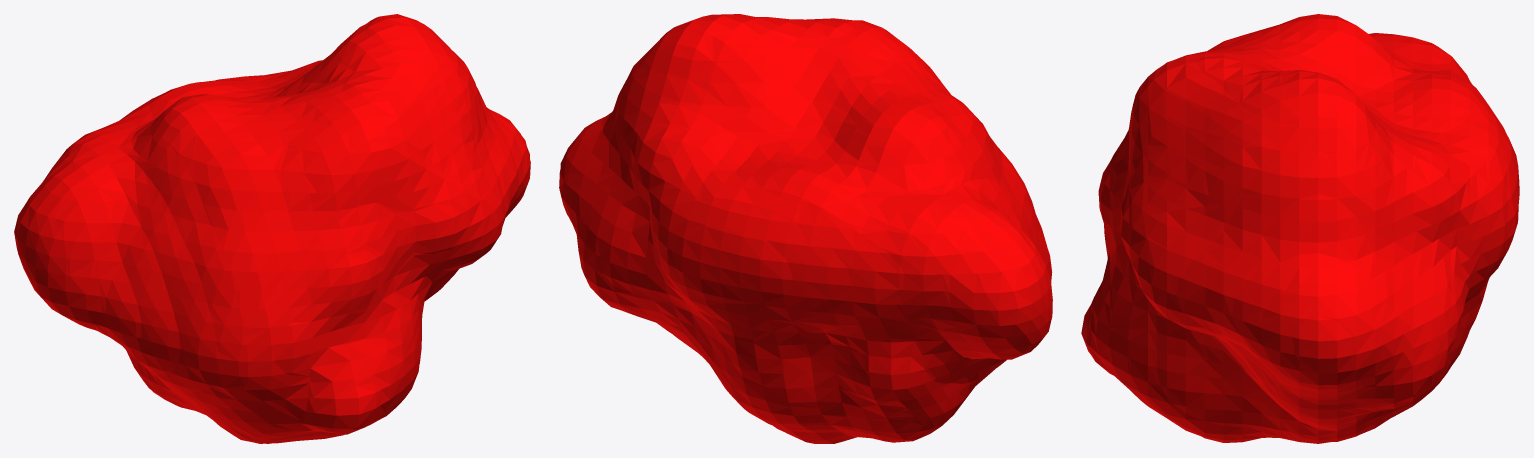
File: Protein_kinase__cAMP_dependent_coarse.dae
3 views of the same model, side by side, from view 1: azimuth 30°, elevation 25°; view 2: azimuth 150°, elevation 25°; view 3: azimuth 270°, elevation 25° (orthographic). The views are drawn at different scales.
Visible parts, largest first — view 1: Protein_kinase__cAMP_dependent; view 2: Protein_kinase__cAMP_dependent; view 3: Protein_kinase__cAMP_dependent.
Boxes of the visible parts, x1,y1,x2,y2 form: Protein_kinase__cAMP_dependent: (14,14,530,443); Protein_kinase__cAMP_dependent: (559,14,1052,443); Protein_kinase__cAMP_dependent: (1081,14,1519,443).
Bounding box in the file's own units: 82.59 × 60.7 × 57.81.
